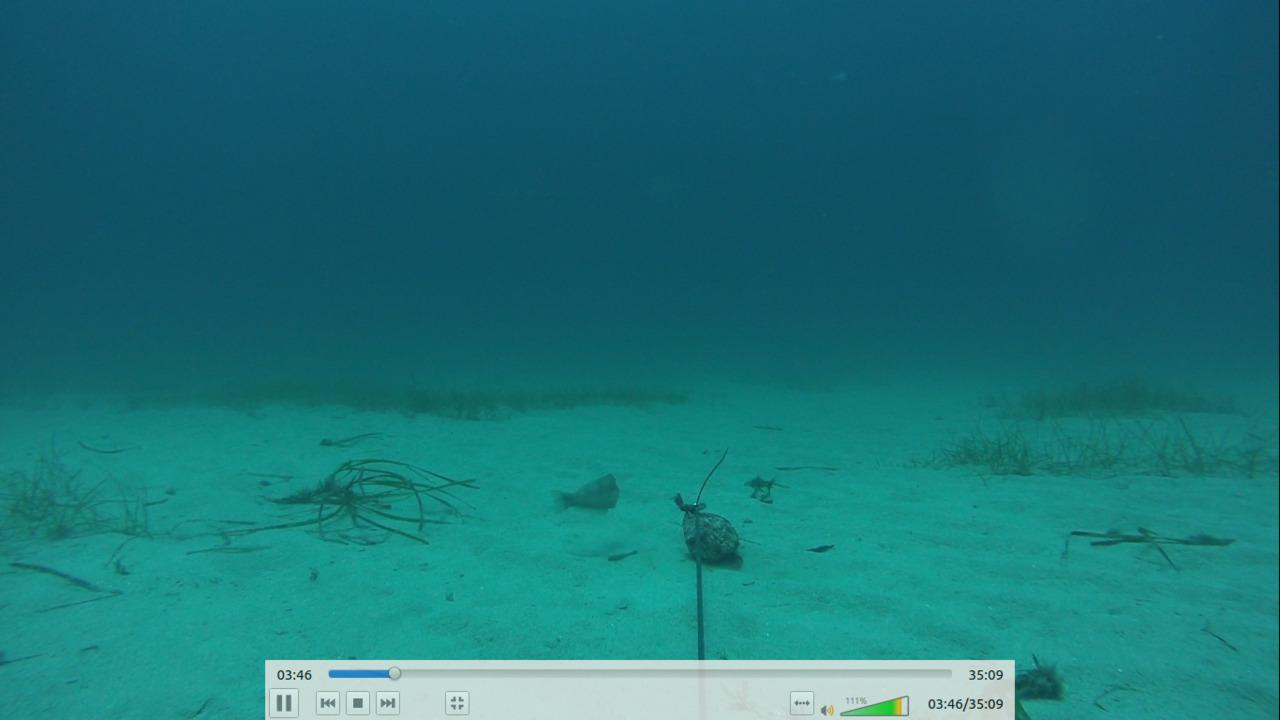raor: (551, 468, 624, 516)
